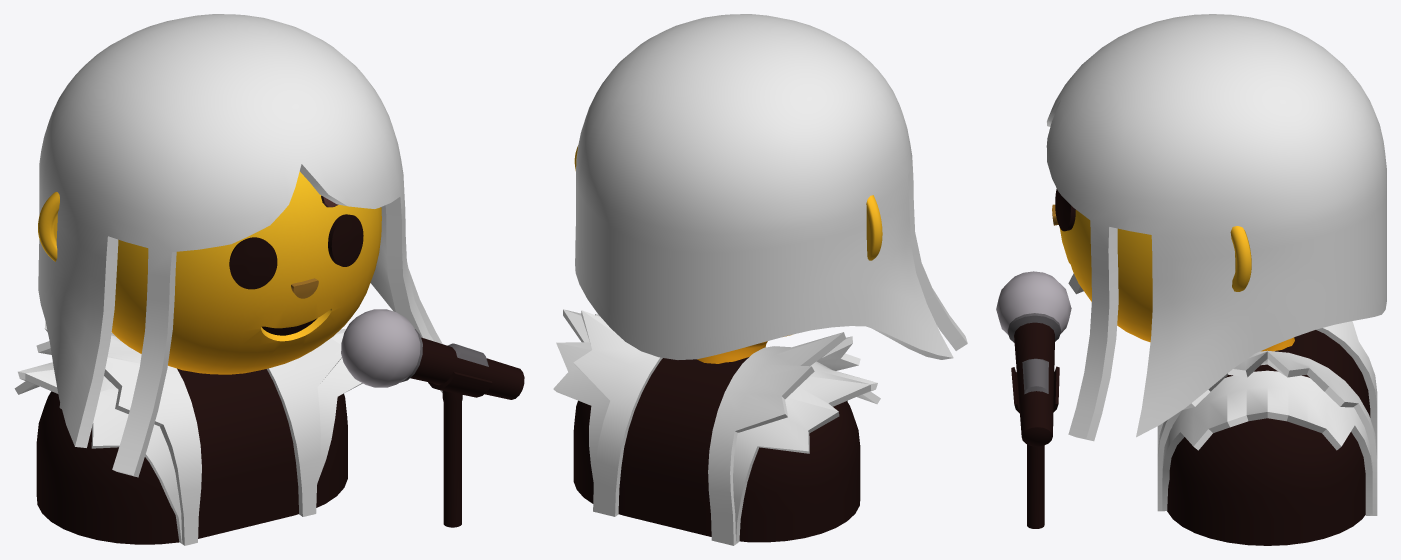
File: woman_singer.gltf
3 views of the same model, side by side, from view 1: azimuth 30°, elevation 25°; view 2: azimuth 150°, elevation 25°; view 3: azimuth 270°, elevation 25° (orthographic). The views are drawn at different scales.
Parts seen in each view (by area): view 1: Roundcube.123, Sphere.083, Roundcube.122, Sphere.084, Sphere.085, Circle.705, Cylinder.105; view 2: Roundcube.123, Sphere.083, Sphere.084, Cylinder.105, Roundcube.122; view 3: Roundcube.123, Sphere.083, Sphere.084, Sphere.085, Roundcube.122, Cylinder.105, Circle.705.
Part boxes in pixels (x1,y1,x2,y2): Roundcube.123: (38, 14, 442, 477); Sphere.083: (36, 368, 347, 544); Roundcube.122: (111, 171, 381, 374); Sphere.084: (14, 321, 362, 545); Sphere.085: (341, 309, 524, 527); Circle.705: (229, 214, 363, 289); Cylinder.105: (38, 192, 59, 261); Roundcube.123: (575, 14, 967, 359); Sphere.083: (573, 357, 860, 542); Sphere.084: (553, 309, 880, 545); Cylinder.105: (574, 145, 882, 260); Roundcube.122: (697, 335, 790, 363); Roundcube.123: (1046, 14, 1386, 441); Sphere.083: (1167, 330, 1370, 545); Sphere.084: (1157, 321, 1377, 515); Sphere.085: (996, 271, 1071, 528); Roundcube.122: (1059, 210, 1294, 351); Cylinder.105: (1230, 226, 1251, 291); Circle.705: (1055, 189, 1075, 231).
Bounding box in the file's own units: 2.09 × 2.41 × 1.9.
7 materials, 2 textured.
